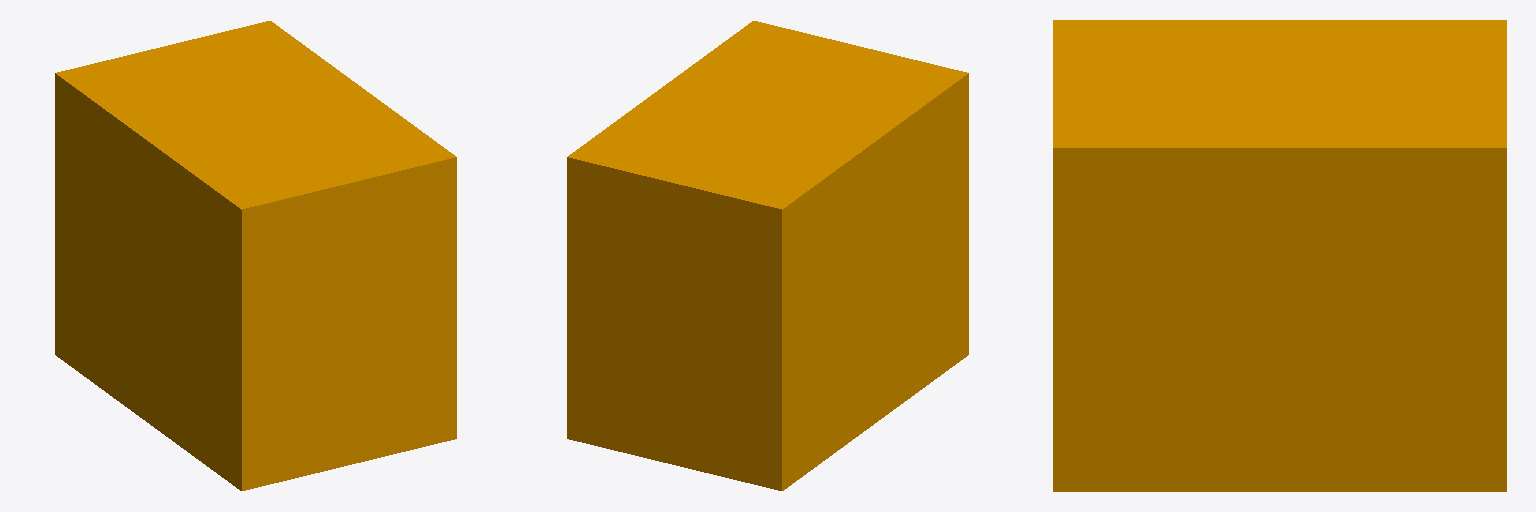
The robot description file, URDF, robot "object":
<robot name="object">
  <link name="object">
    <visual>
      <origin xyz="0 0 0" />
      <geometry>
        <box size="0.064 0.09600000000000003 0.08" />
      </geometry>
    </visual>

    <collision>
      <origin xyz="0 0 0" />
      <geometry>
        <box size="0.064 0.09600000000000003 0.08" />
      </geometry>
    </collision>

    <inertial>
      <mass value="0.05" />
      <inertia ixx="0.0001" ixy="0.0" ixz="0.0" iyy="0.0001" iyz="0.0" izz="0.0001" />
    </inertial>
  </link>
</robot>

--- What the picture shows (computed from the rendered views, not written in the file) ---
Views: 3 orthographic renders of the robot side by side, from view 1: azimuth 30°, elevation 25°; view 2: azimuth 150°, elevation 25°; view 3: azimuth 270°, elevation 25°.
Model object with 1 links and 0 joints (none), rooted at object, posed every joint at zero.
Links seen in each view (by area): view 1: object; view 2: object; view 3: object.
Boxes of the visible links, left/top/right/bottom form: object: left=55, top=21, right=456, bottom=490; object: left=567, top=21, right=968, bottom=490; object: left=1053, top=20, right=1506, bottom=491.
Bounding box of the posed robot: 0.064 × 0.096 × 0.08 m (x, y, z).
Geometry: primitives only (box / cylinder / sphere), no mesh files.